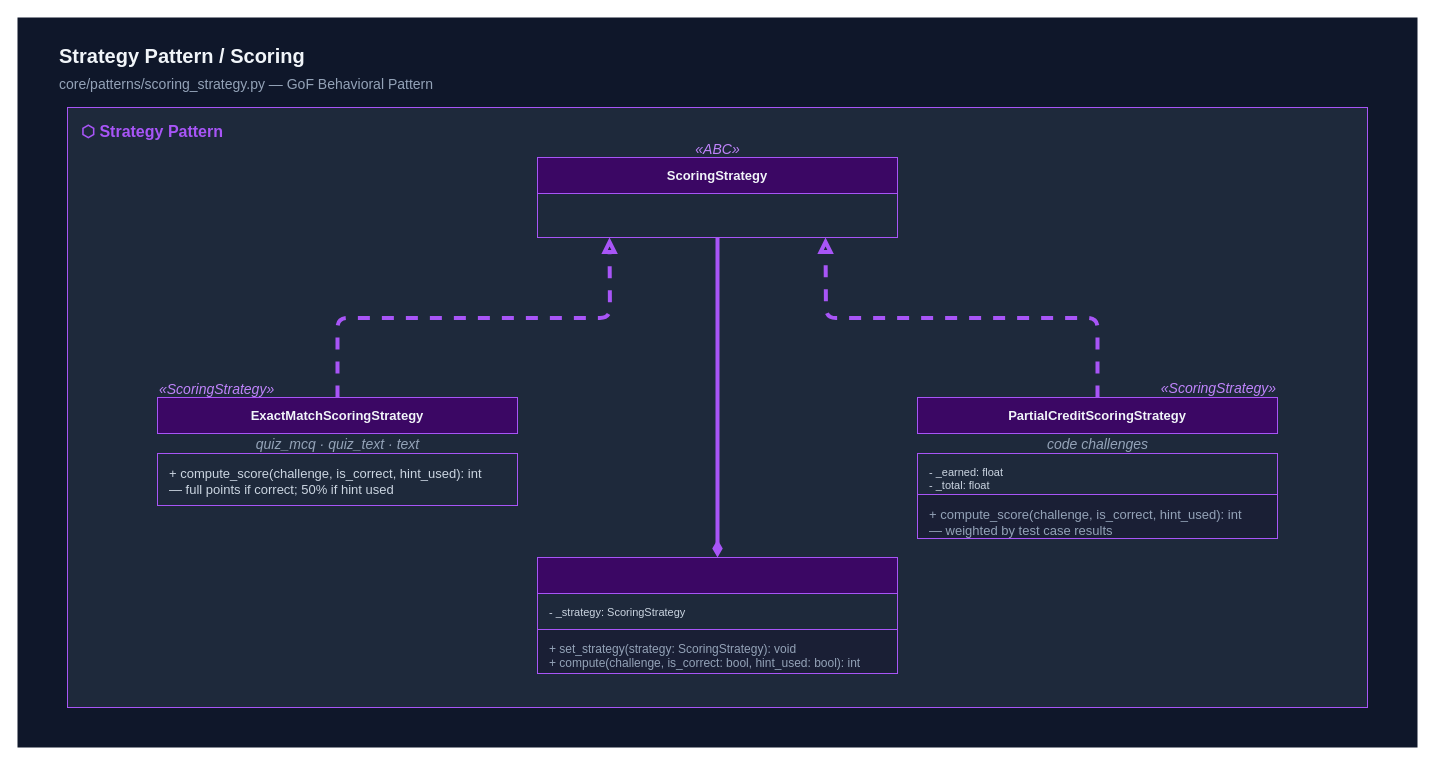
This 1434x764 diagram has some shape labels left out. The box of each missing label's shape, as (x1, y1, x2, y2) in pixels:
# compute_score(challenge, is_correct: bool, hint_used: bool): int {abstract}: (536, 192, 898, 238)
ScoringContext: (536, 556, 898, 594)
